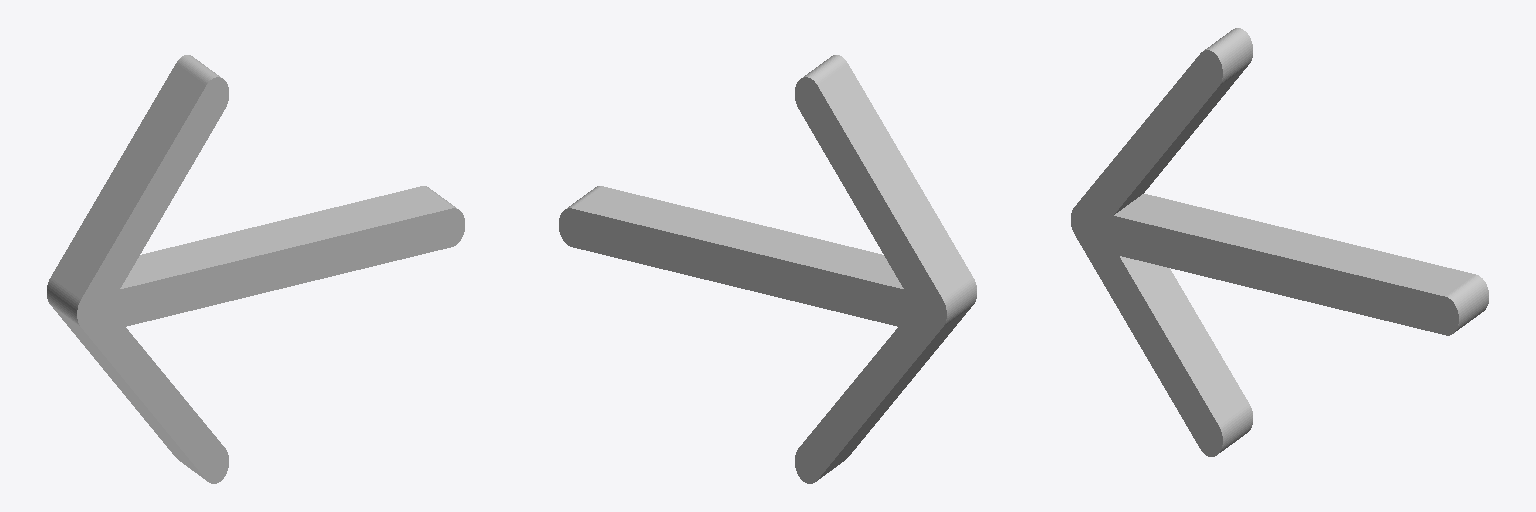
Rendered from Fleche.obj.
3 renders of one model, left to right at view 1: azimuth 30°, elevation 25°; view 2: azimuth 150°, elevation 25°; view 3: azimuth 330°, elevation 25°, orthographic.
Parts seen in each view (by area): view 1: Cap_1, Extrude; view 2: Cap_2, Extrude; view 3: Cap_1, Extrude.
Part boxes in pixels (x1,y1,x2,y2): Cap_1: (77, 77, 464, 483); Extrude: (47, 55, 456, 481); Cap_2: (559, 77, 946, 483); Extrude: (567, 55, 976, 481); Cap_1: (1071, 50, 1458, 456); Extrude: (1114, 28, 1488, 452).
Size of the model in its own units: 10 by 10 by 1.36.